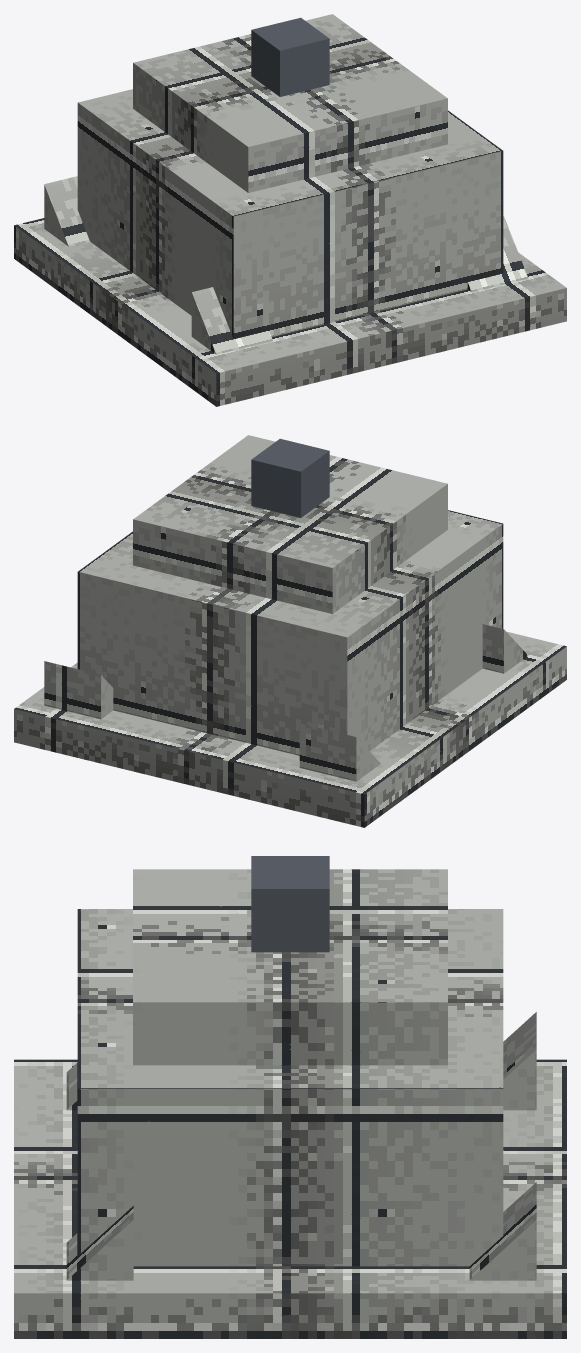
File: phys_anchor_block.glb
The picture shows the model from 3 angles, top to bottom: view 1: azimuth 30°, elevation 25°; view 2: azimuth 150°, elevation 25°; view 3: azimuth 270°, elevation 25°; orthographic projection. The views are drawn at different scales.
Parts seen in each view (by area): view 1: phys_anchor_block, attach_eye; view 2: phys_anchor_block, attach_eye; view 3: phys_anchor_block, attach_eye.
Boxes of the visible parts, x1=… form: phys_anchor_block: x1=14, y1=14, x2=566, y2=406; attach_eye: x1=251, y1=17, x2=329, y2=96; phys_anchor_block: x1=14, y1=435, x2=566, y2=827; attach_eye: x1=251, y1=438, x2=329, y2=517; phys_anchor_block: x1=14, y1=869, x2=566, y2=1338; attach_eye: x1=251, y1=856, x2=329, y2=952.
Size of the model in its own units: 0.988 by 0.689 by 0.988.
2 materials, 1 textured.
